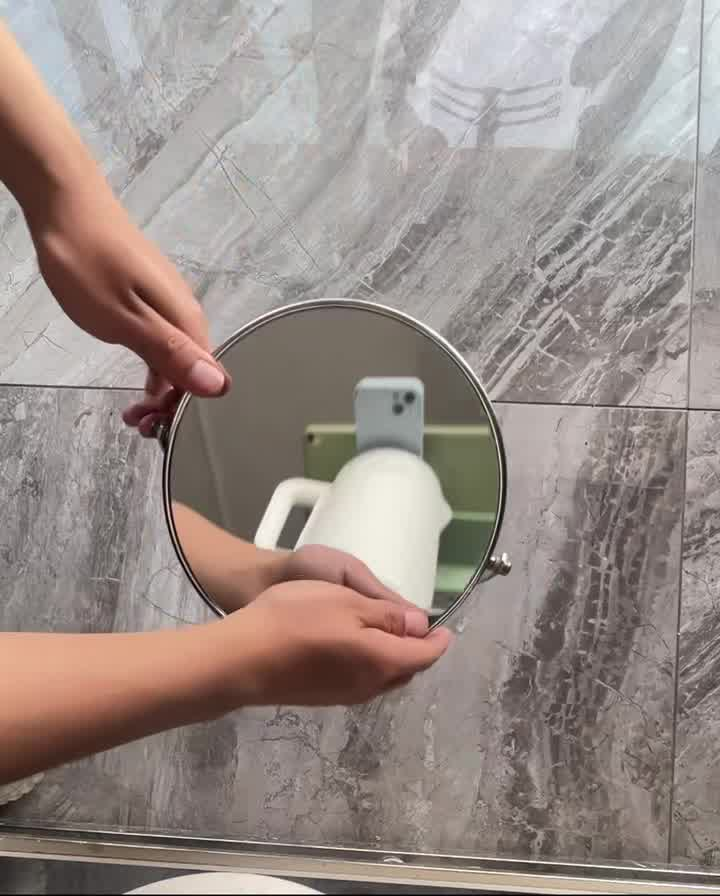mirror: (161, 290, 525, 655)
screw: (486, 552, 516, 600)
